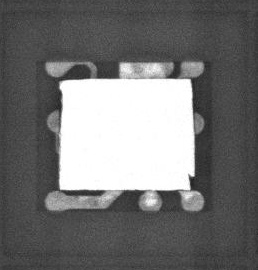DIE_BROKEN: (57, 88, 64, 127), (187, 173, 195, 190)
